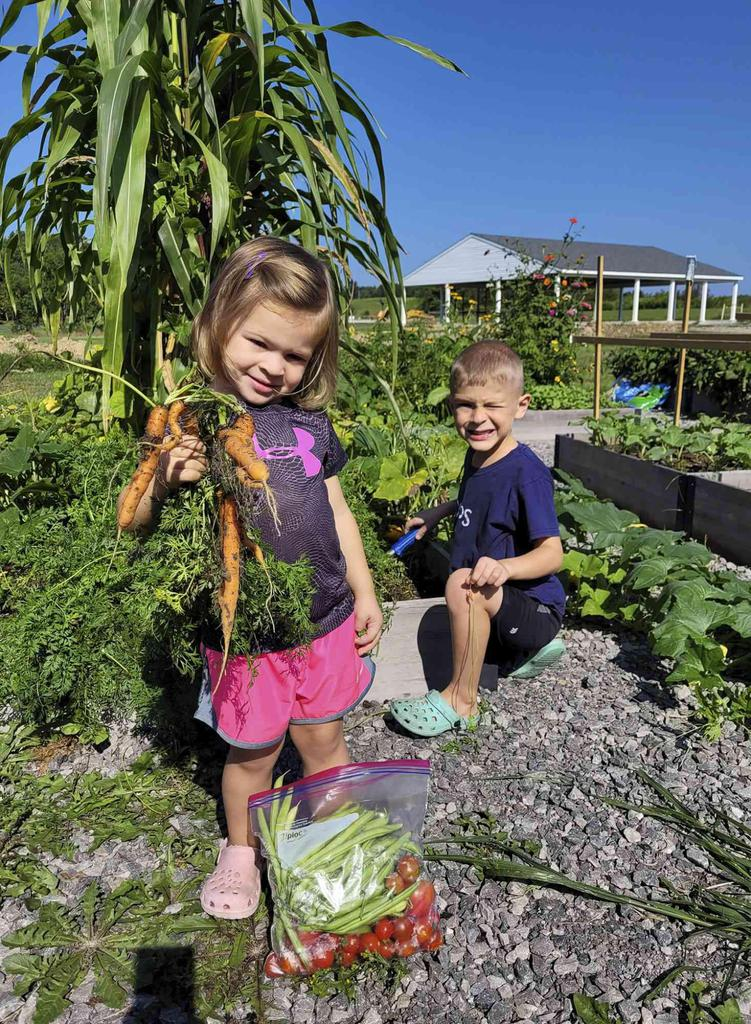child: (148, 227, 387, 941), (412, 355, 605, 749)
